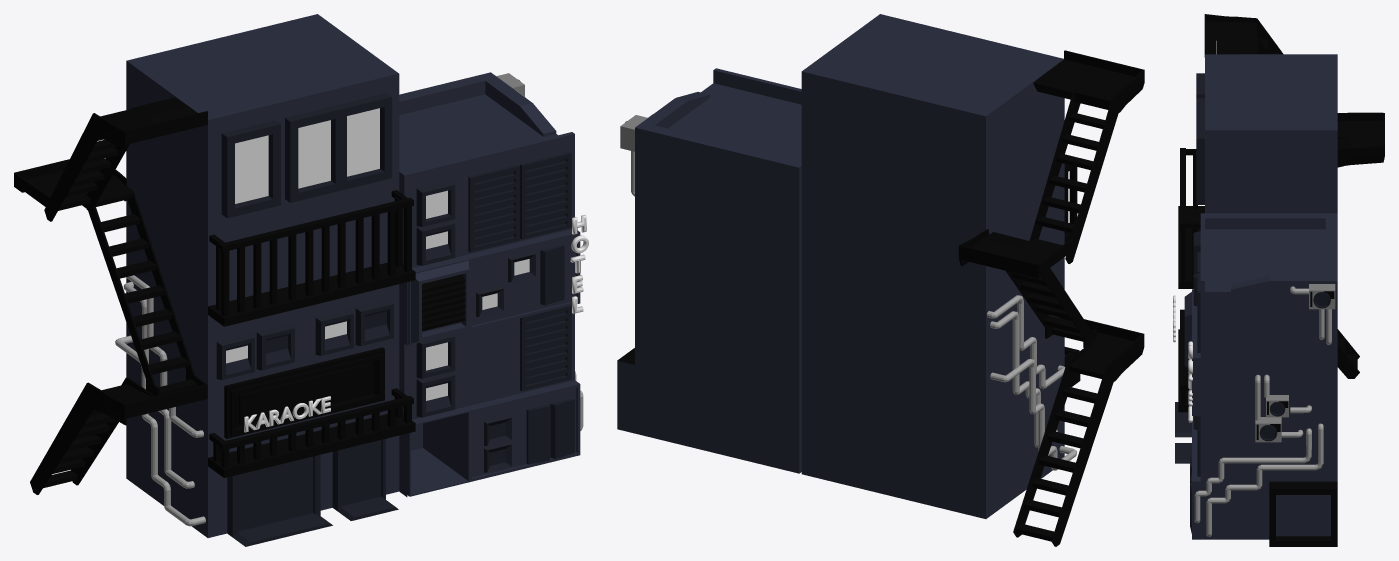
File: bina1.fbx
The picture shows the model from 3 angles, left to right: view 1: azimuth 30°, elevation 25°; view 2: azimuth 150°, elevation 25°; view 3: azimuth 270°, elevation 25°; orthographic projection. The views are drawn at different scales.
Visible parts, largest first — view 1: Cube.062, Plane.029, Text.001, Text.002; view 2: Cube.062, Plane.029; view 3: Cube.062, Plane.029, Text.002.
Boxes of the visible parts, box(x1,y1,x2,y2) form: Cube.062: box(14, 14, 580, 546); Plane.029: box(115, 90, 583, 526); Text.001: box(244, 396, 330, 432); Text.002: box(570, 215, 588, 313); Cube.062: box(617, 14, 1144, 546); Plane.029: box(631, 114, 1076, 470); Cube.062: box(1175, 14, 1384, 546); Plane.029: box(1194, 286, 1331, 536); Text.002: box(1188, 341, 1192, 422).
Size of the model in its own units: 1222 by 1070 by 589.
